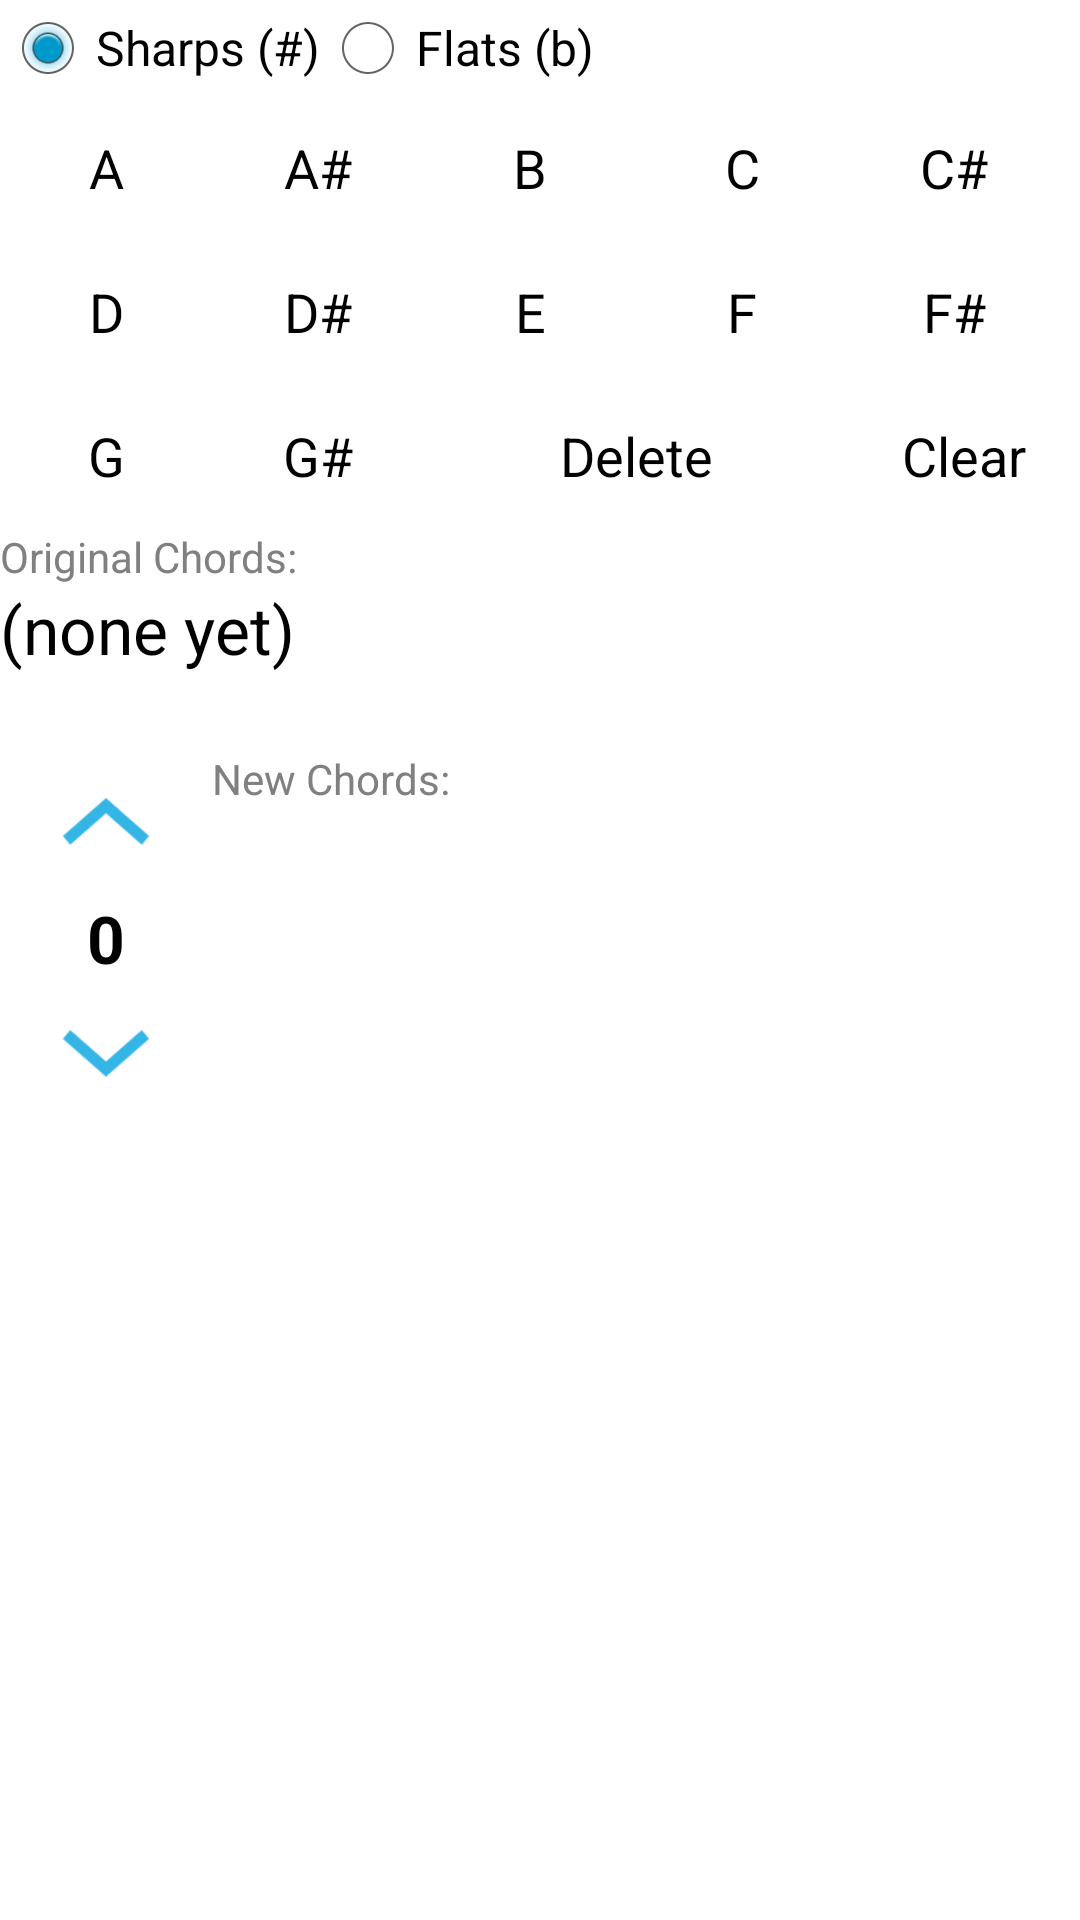

Icon bounding boxes for this 1080x1920 phone screenshot, format box(x1, y1, x2, y2):
downarrow: box(62, 1030, 149, 1077)
uparrow: box(63, 798, 149, 845)
